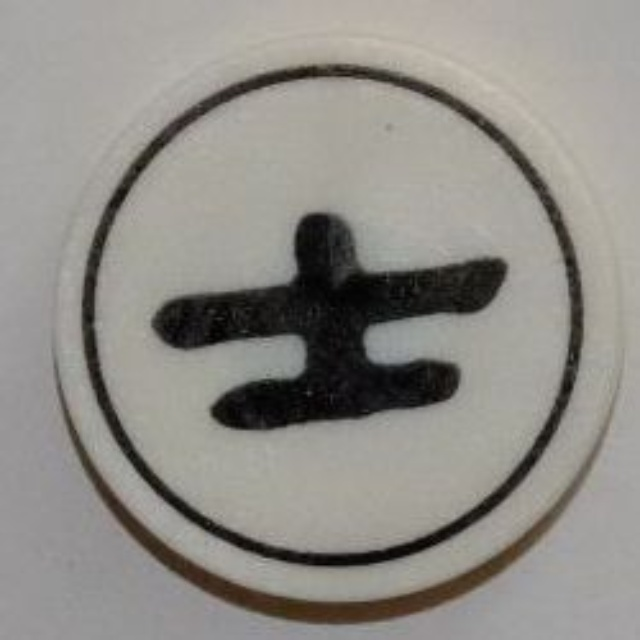black_si: (49, 30, 633, 610)
